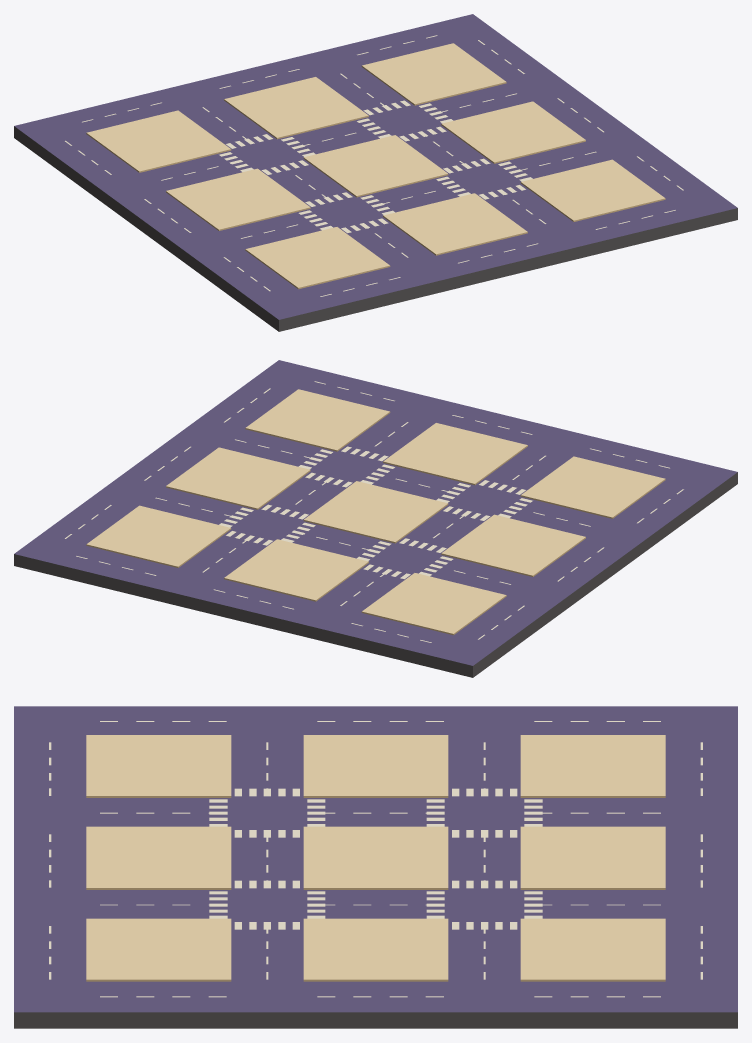
File: L_Ground.fbx
The picture shows the model from 3 angles, top to bottom: view 1: azimuth 30°, elevation 25°; view 2: azimuth 150°, elevation 25°; view 3: azimuth 270°, elevation 25°; orthographic projection. The views are drawn at different scales.
Visible parts, largest first — view 1: L_Ground.001; view 2: L_Ground.001; view 3: L_Ground.001.
Part boxes in pixels (x1,y1,x2,y2): L_Ground.001: (14, 14, 737, 331); L_Ground.001: (14, 360, 737, 677); L_Ground.001: (14, 706, 737, 1028).
Bounding box in the file's own units: 40 × 1.12 × 40.
